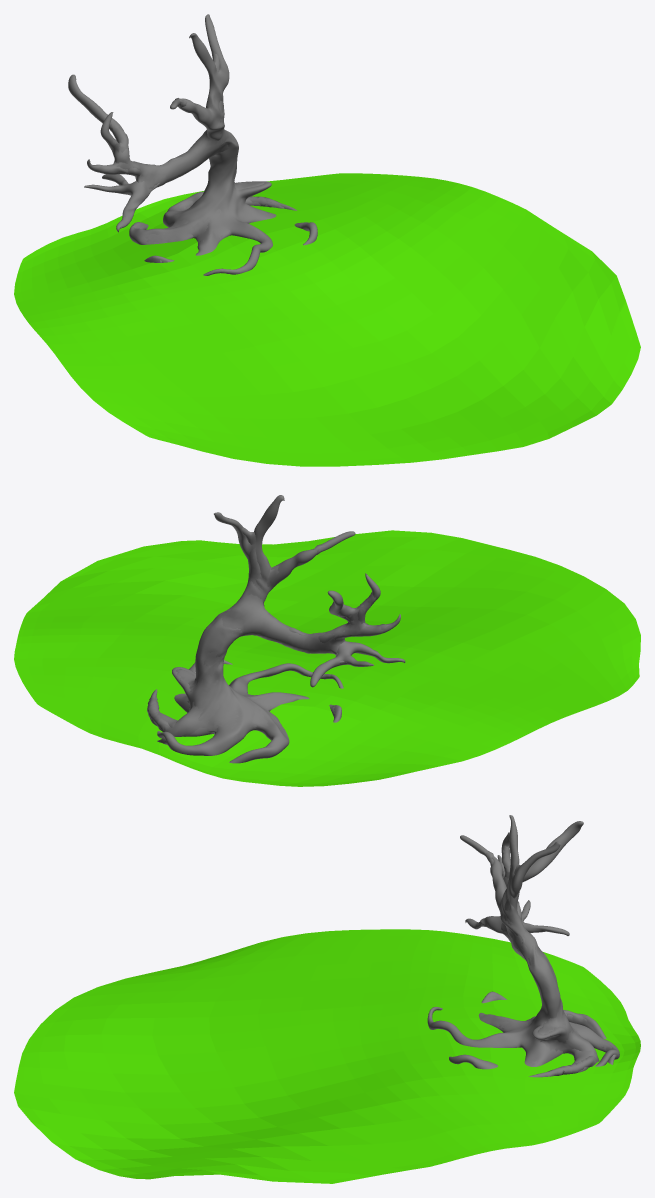
Rendered from GardenScenePlaceholder.fbx.
The picture shows the model from 3 angles, top to bottom: view 1: azimuth 30°, elevation 25°; view 2: azimuth 150°, elevation 25°; view 3: azimuth 270°, elevation 25°; orthographic projection. The views are drawn at different scales.
Visible parts, largest first — view 1: Plane, HIGH POLY, LOW POLY; view 2: Plane, HIGH POLY, LOW POLY; view 3: Plane, HIGH POLY, LOW POLY.
Part boxes in pixels (x1,y1,x2,y2): Plane: (14,173,640,466); HIGH POLY: (68,14,317,275); LOW POLY: (84,51,283,262); Plane: (14,530,640,786); HIGH POLY: (150,495,405,763); LOW POLY: (147,527,394,749); Plane: (14,929,640,1183); HIGH POLY: (427,815,619,1077); LOW POLY: (465,845,617,1076).
Bounding box in the file's own units: 5451 × 2545 × 5769.
